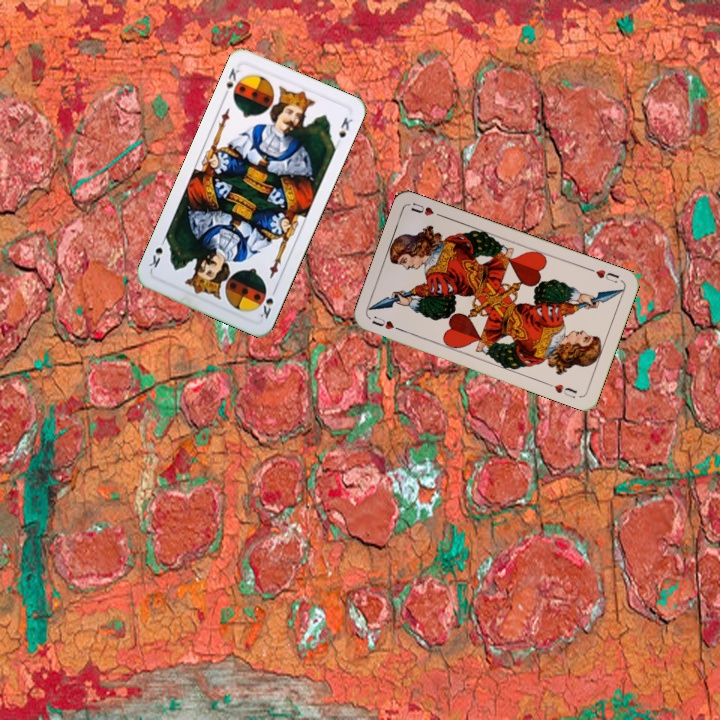HU: (368, 312, 406, 334), (585, 264, 621, 285)
SK: (256, 283, 279, 321), (219, 64, 242, 100)
